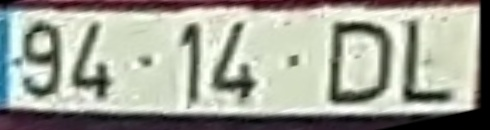1: (177, 19, 203, 103)
4: (210, 21, 257, 102), (68, 21, 116, 100)
9: (21, 19, 65, 100)
D: (328, 19, 394, 106)
L: (400, 18, 454, 106)
